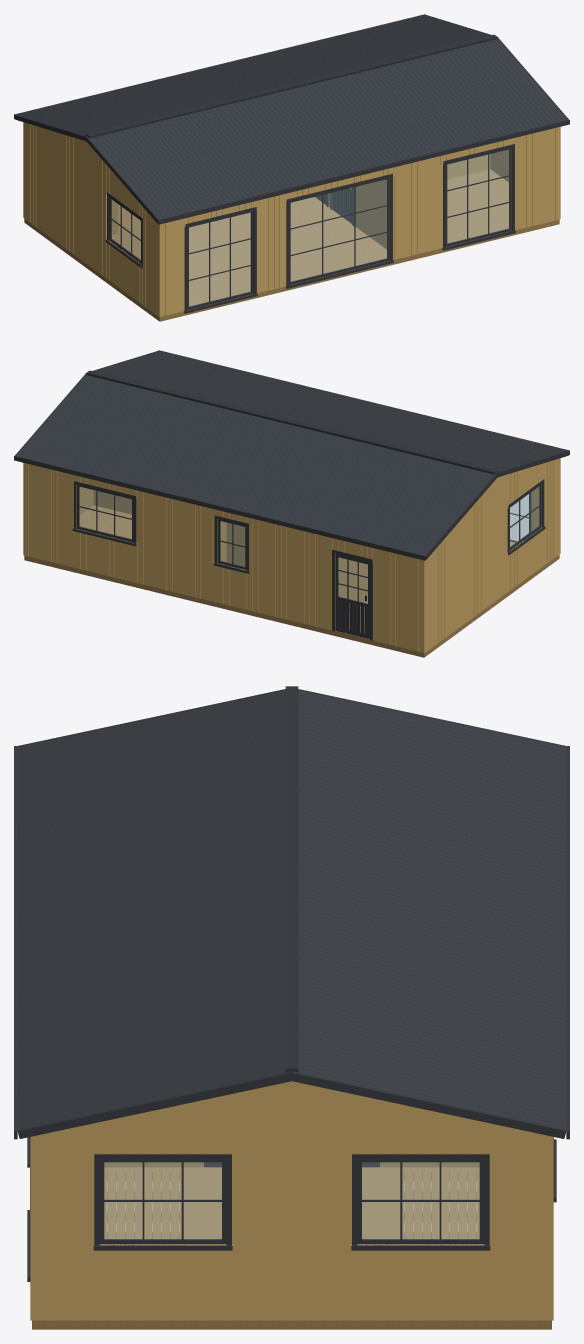
Rendered from септима_6_10_44_20_мм.glb.
3 renders of one model, top to bottom at view 1: azimuth 30°, elevation 25°; view 2: azimuth 150°, elevation 25°; view 3: azimuth 270°, elevation 25°, orthographic. The views are drawn at different scales.
Parts seen in each view (by area): view 1: roof, cladding, floor, object 108, object 121, object 95, walls, house, object 179, object 116; view 2: roof, cladding, walls, house, object 156, floor, object 179, object 143, object 168, object 95; view 3: roof, cladding, floor, object 191, object 203, walls, house, object 198, object 210, object 197, object 209.
Boxes of the visible parts, left/top/right/bottom form: roof: left=14, top=14, right=569, bottom=224; cladding: left=23, top=122, right=560, bottom=316; floor: left=112, top=169, right=508, bottom=306; object 108: left=291, top=179, right=386, bottom=281; object 121: left=447, top=150, right=508, bottom=243; object 95: left=189, top=212, right=250, bottom=306; walls: left=109, top=147, right=511, bottom=310; house: left=24, top=218, right=559, bottom=321; object 179: left=111, top=199, right=140, bottom=260; object 116: left=286, top=260, right=393, bottom=288; roof: left=14, top=350, right=569, bottom=560; cladding: left=23, top=458, right=560, bottom=652; walls: left=76, top=483, right=541, bottom=630; house: left=24, top=554, right=559, bottom=657; object 156: left=79, top=487, right=131, bottom=539; floor: left=79, top=505, right=514, bottom=632; object 179: left=510, top=486, right=539, bottom=546; object 143: left=338, top=557, right=367, bottom=603; object 168: left=220, top=521, right=244, bottom=566; object 95: left=510, top=494, right=528, bottom=540; roof: left=14, top=686, right=569, bottom=1139; cladding: left=30, top=1081, right=553, bottom=1320; floor: left=104, top=1162, right=479, bottom=1238; object 191: left=362, top=1162, right=479, bottom=1239; object 203: left=104, top=1162, right=221, bottom=1239; walls: left=32, top=1082, right=551, bottom=1319; house: left=32, top=1171, right=551, bottom=1329; object 198: left=351, top=1244, right=490, bottom=1250; object 210: left=93, top=1244, right=232, bottom=1250; object 197: left=352, top=1154, right=489, bottom=1159; object 209: left=94, top=1154, right=231, bottom=1159.
Bounding box in the file's own units: 10.08 × 3.23 × 6.15.
